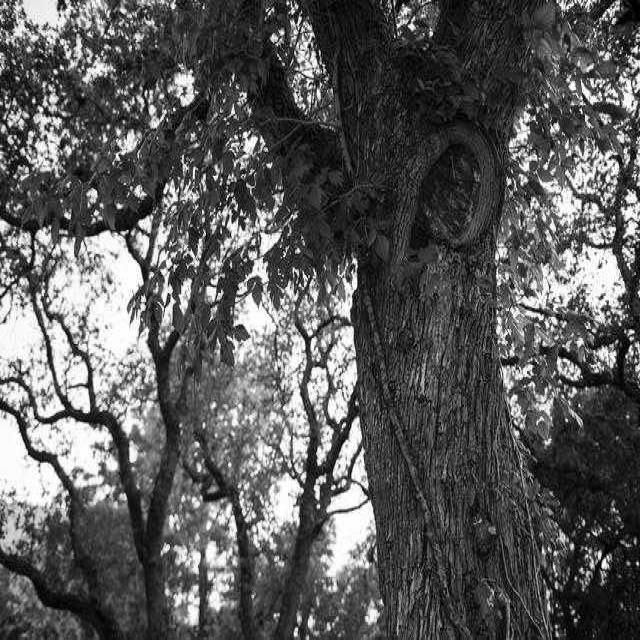Tree: (310, 0, 549, 638)
